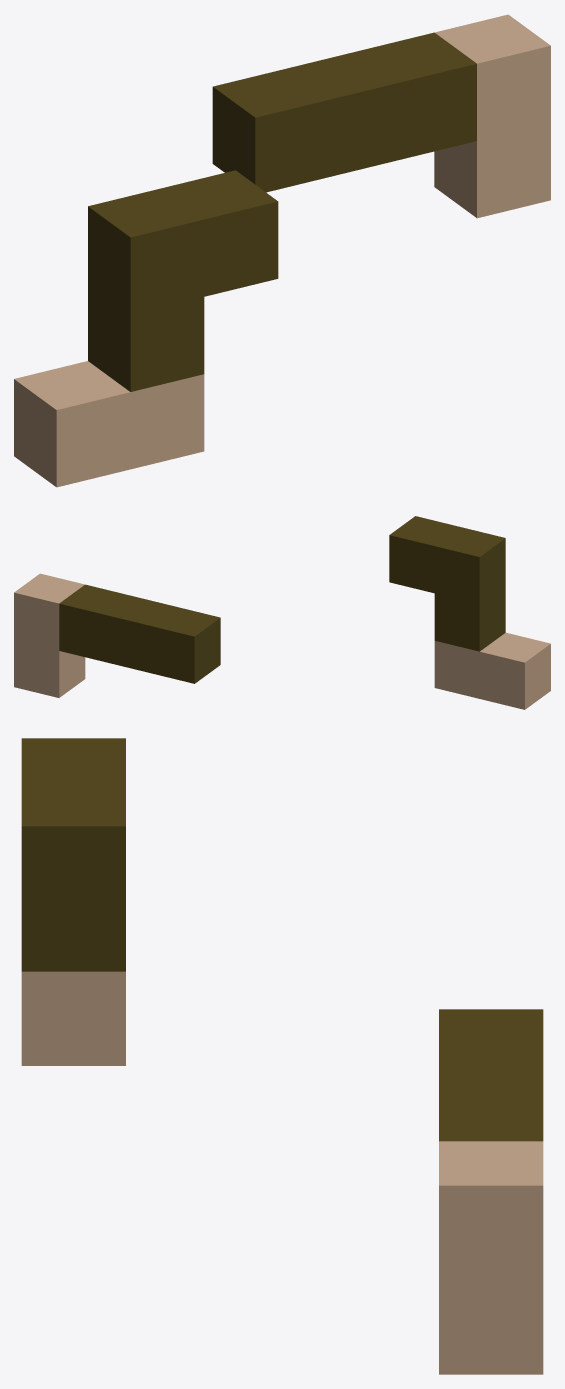
The model's file is orc_8_torso_walk.fbx.
3 renders of one model, top to bottom at view 1: azimuth 30°, elevation 25°; view 2: azimuth 150°, elevation 25°; view 3: azimuth 270°, elevation 25°, orthographic. The views are drawn at different scales.
Parts seen in each view (by area): view 1: torso_walk.014; view 2: torso_walk.014; view 3: torso_walk.014.
Part boxes in pixels (left/top/right/bottom): torso_walk.014: left=14, top=14, right=550, bottom=487; torso_walk.014: left=14, top=516, right=550, bottom=709; torso_walk.014: left=21, top=738, right=543, bottom=1374.
Size of the model in its own units: 900 by 300 by 500.
